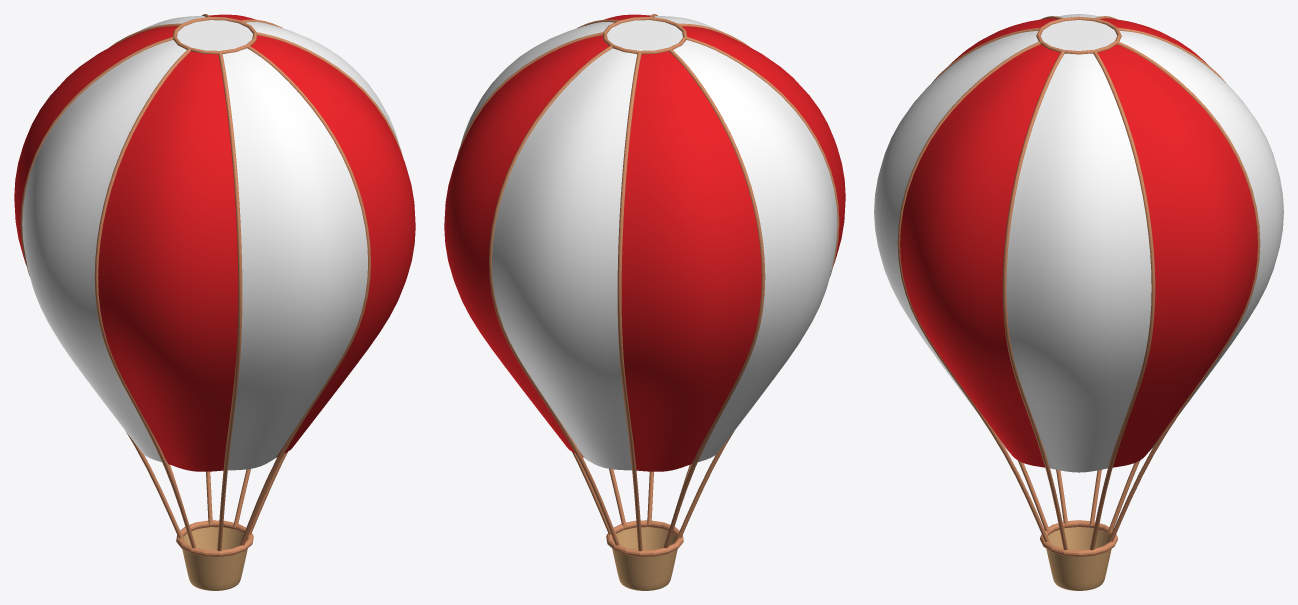
The model's file is clouds.glb.
The picture shows the model from 3 angles, left to right: view 1: azimuth 30°, elevation 25°; view 2: azimuth 150°, elevation 25°; view 3: azimuth 270°, elevation 25°; orthographic projection.
Visible parts, largest first — view 1: Sphere, Sphere.001, Circle, Circle.001, Circle.002; view 2: Sphere, Sphere.001, Circle, Circle.001, Circle.002; view 3: Sphere, Sphere.001, Circle, Circle.001, Circle.002.
Boxes of the visible parts, box(x1,y1,x2,y2) form: Sphere: box(14, 14, 415, 471); Sphere.001: box(20, 14, 403, 551); Circle: box(182, 527, 247, 590); Circle.001: box(176, 520, 253, 556); Circle.002: box(173, 17, 257, 54); Sphere: box(444, 14, 845, 471); Sphere.001: box(456, 14, 839, 551); Circle: box(612, 527, 677, 590); Circle.001: box(606, 520, 683, 556); Circle.002: box(602, 17, 686, 54); Sphere: box(874, 14, 1283, 472); Sphere.001: box(897, 16, 1260, 550); Circle: box(1046, 527, 1111, 590); Circle.001: box(1040, 520, 1117, 556); Circle.002: box(1036, 16, 1121, 54).
Size of the model in its own units: 2.41 by 3.55 by 2.41.
